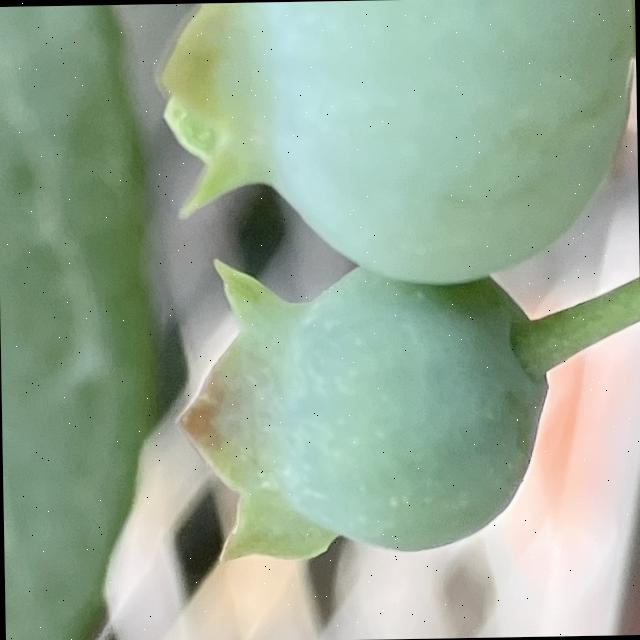Blueberries: (150, 0, 639, 291), (175, 255, 549, 562)
